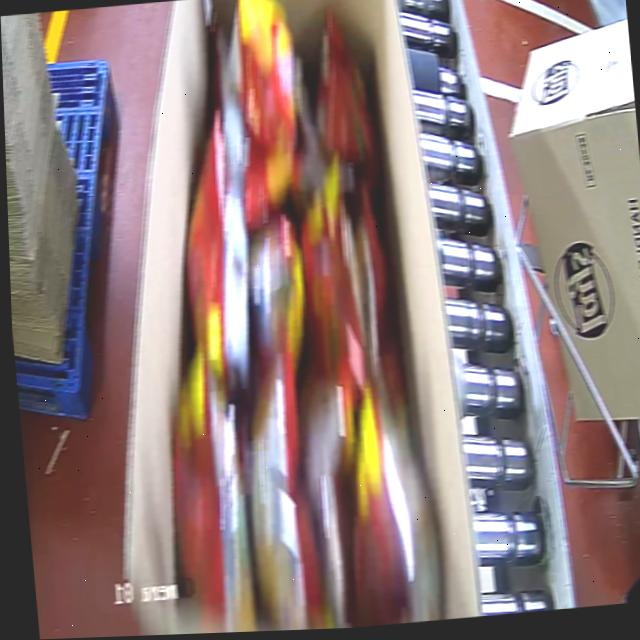MASALA: (125, 0, 440, 635)
